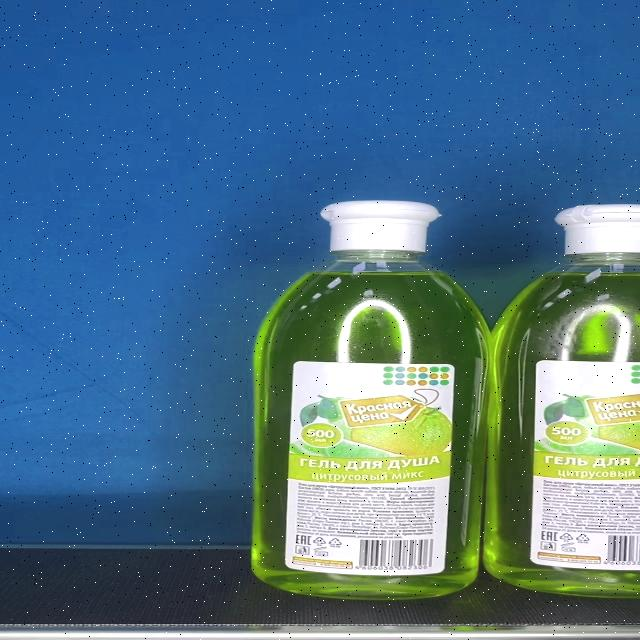Bottle: (250, 202, 490, 601)
Cap: (320, 202, 440, 253)
